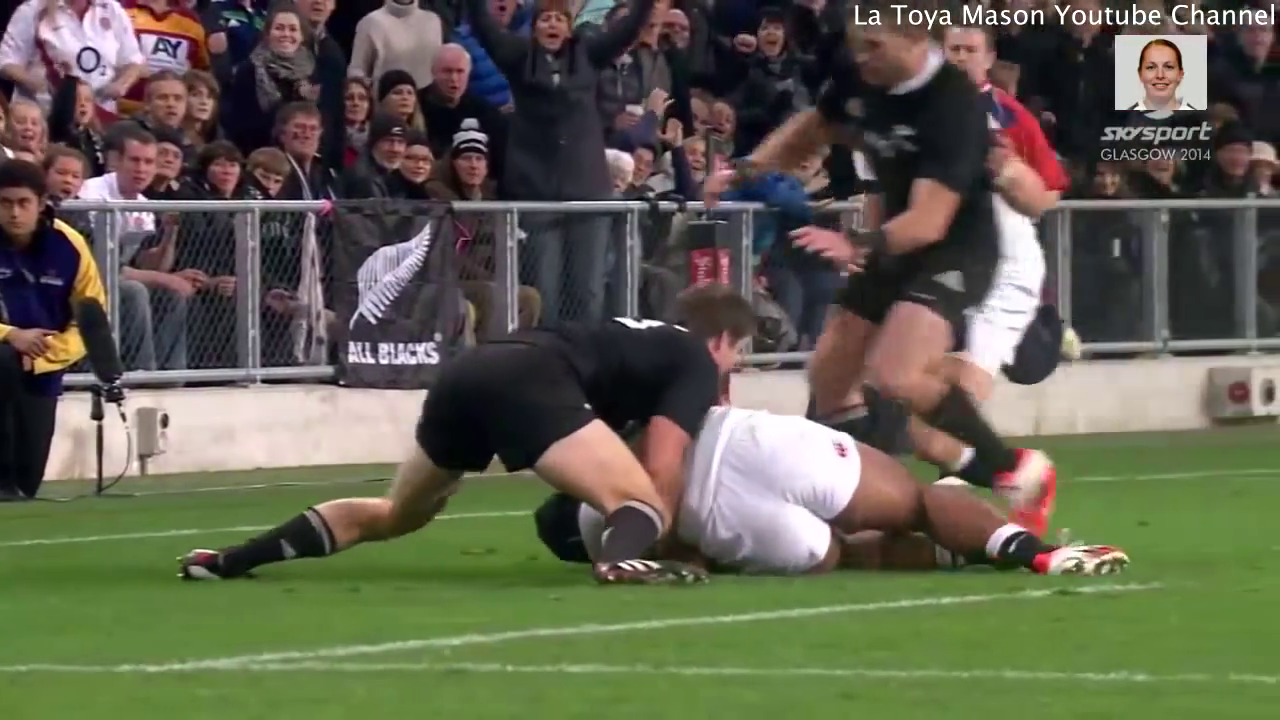player: (181, 281, 750, 586), (738, 6, 981, 487), (604, 392, 1087, 558), (942, 28, 1084, 511)
ruck: (213, 286, 1045, 574)
